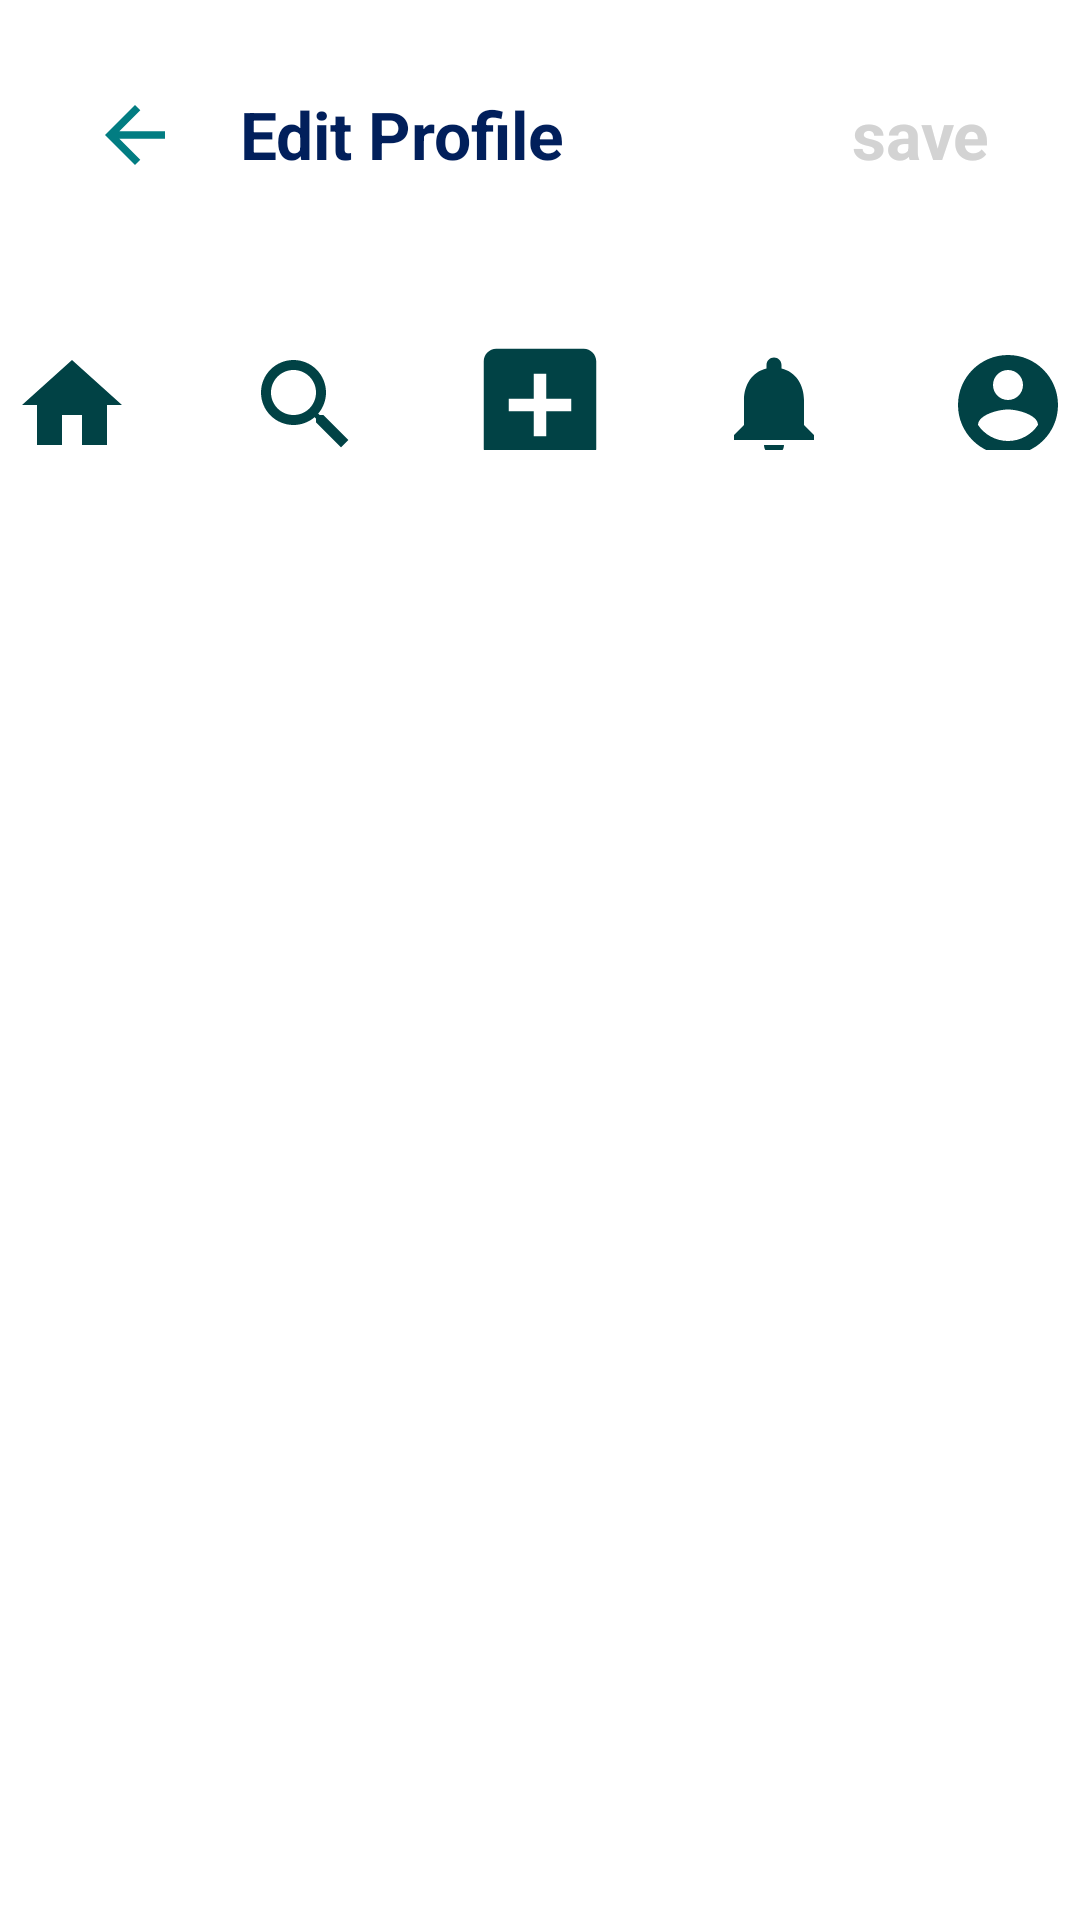

Icons on this 1080 × 1920 Android screen, each with the point to tap as point (x, y):
account circle: point (1008, 402)
add box: point (540, 399)
arrow back: point (135, 135)
home: point (72, 402)
notifications: point (774, 403)
search: point (304, 403)
